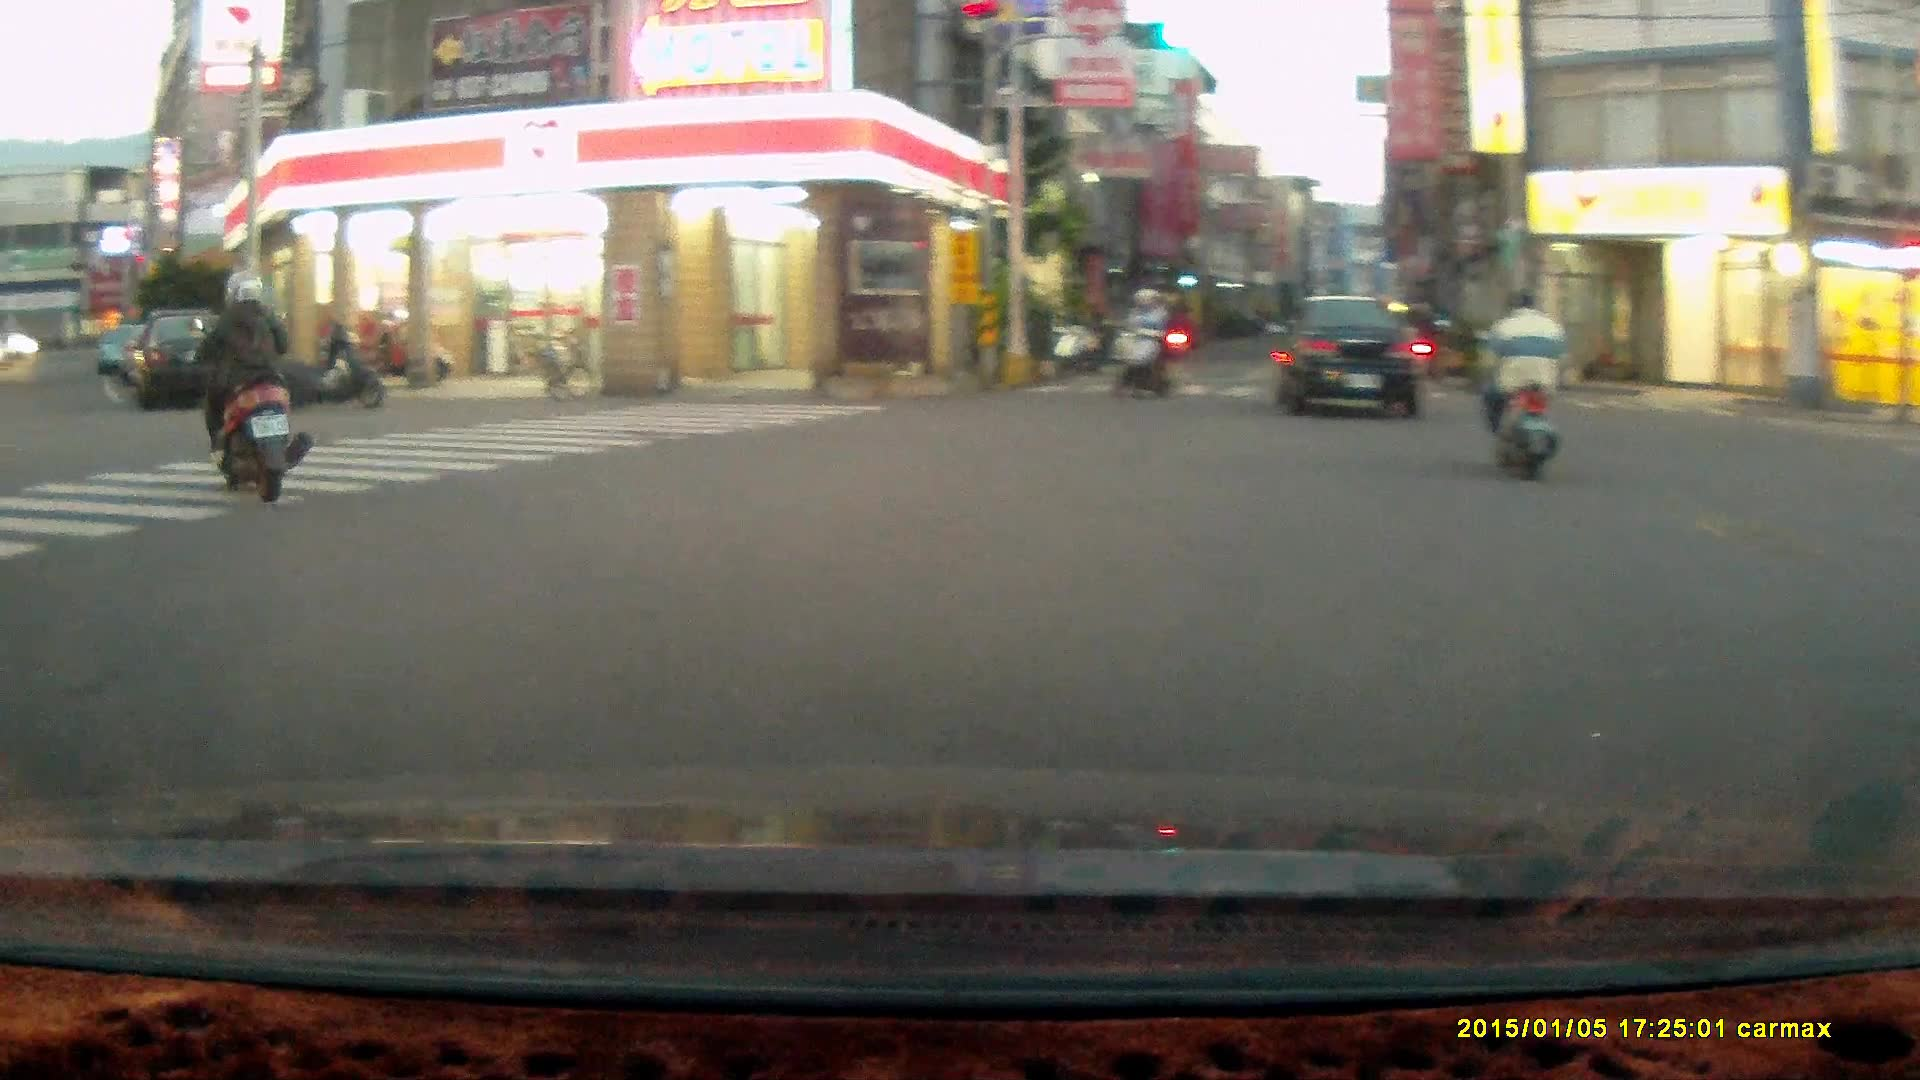rider: (193, 271, 313, 501), (1478, 286, 1571, 485), (1111, 282, 1174, 398)
vehicle: (1279, 295, 1433, 419), (133, 309, 260, 409)
